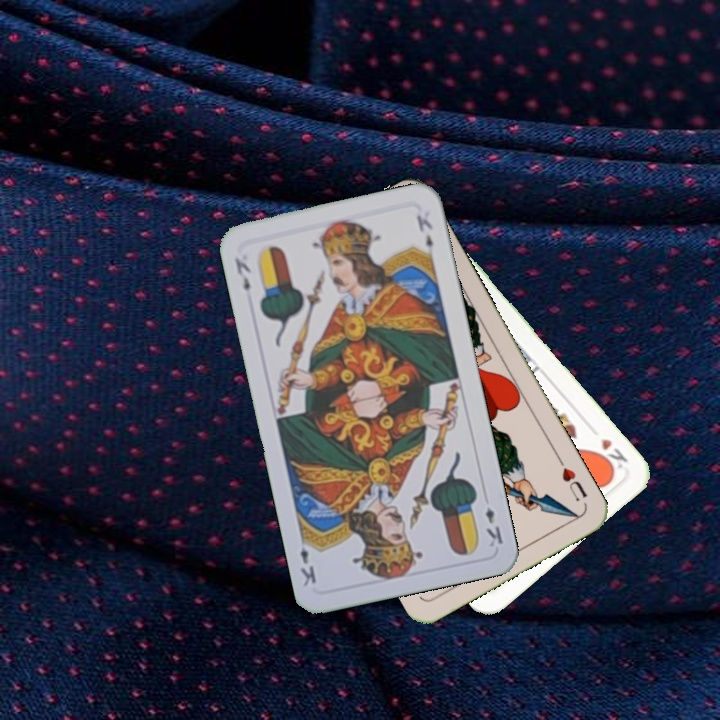EK: (481, 503, 506, 550), (230, 254, 254, 294)
HK: (592, 434, 631, 475)
HU: (553, 453, 590, 504)
